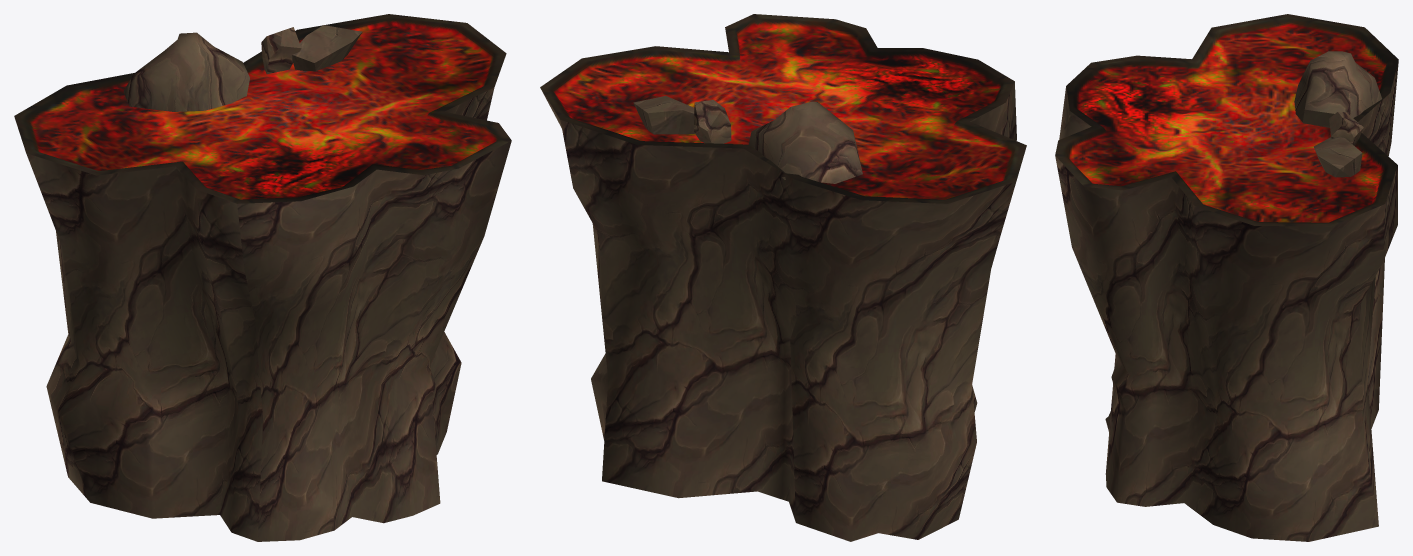
File: Battle02_Pools_01.FBX
The picture shows the model from 3 angles, left to right: view 1: azimuth 30°, elevation 25°; view 2: azimuth 150°, elevation 25°; view 3: azimuth 270°, elevation 25°; orthographic projection. The views are drawn at different scales.
Parts seen in each view (by area): view 1: Battle02_Pools_01_02, Battle02_Pools_01_01, Battle02_Pools_01_03; view 2: Battle02_Pools_01_02, Battle02_Pools_01_01, Battle02_Pools_01_03; view 3: Battle02_Pools_01_02, Battle02_Pools_01_01, Battle02_Pools_01_03.
Boxes of the visible parts, x1=… form: Battle02_Pools_01_02: x1=26, y1=88, x2=511, y2=541; Battle02_Pools_01_01: x1=14, y1=14, x2=511, y2=203; Battle02_Pools_01_03: x1=123, y1=25, x2=362, y2=111; Battle02_Pools_01_02: x1=540, y1=81, x2=1016, y2=541; Battle02_Pools_01_01: x1=540, y1=14, x2=1026, y2=203; Battle02_Pools_01_03: x1=633, y1=96, x2=862, y2=183; Battle02_Pools_01_02: x1=1055, y1=61, x2=1398, y2=541; Battle02_Pools_01_01: x1=1055, y1=14, x2=1398, y2=226; Battle02_Pools_01_03: x1=1294, y1=51, x2=1384, y2=177.
Size of the model in its own units: 12.66 by 10.8 by 8.64.
